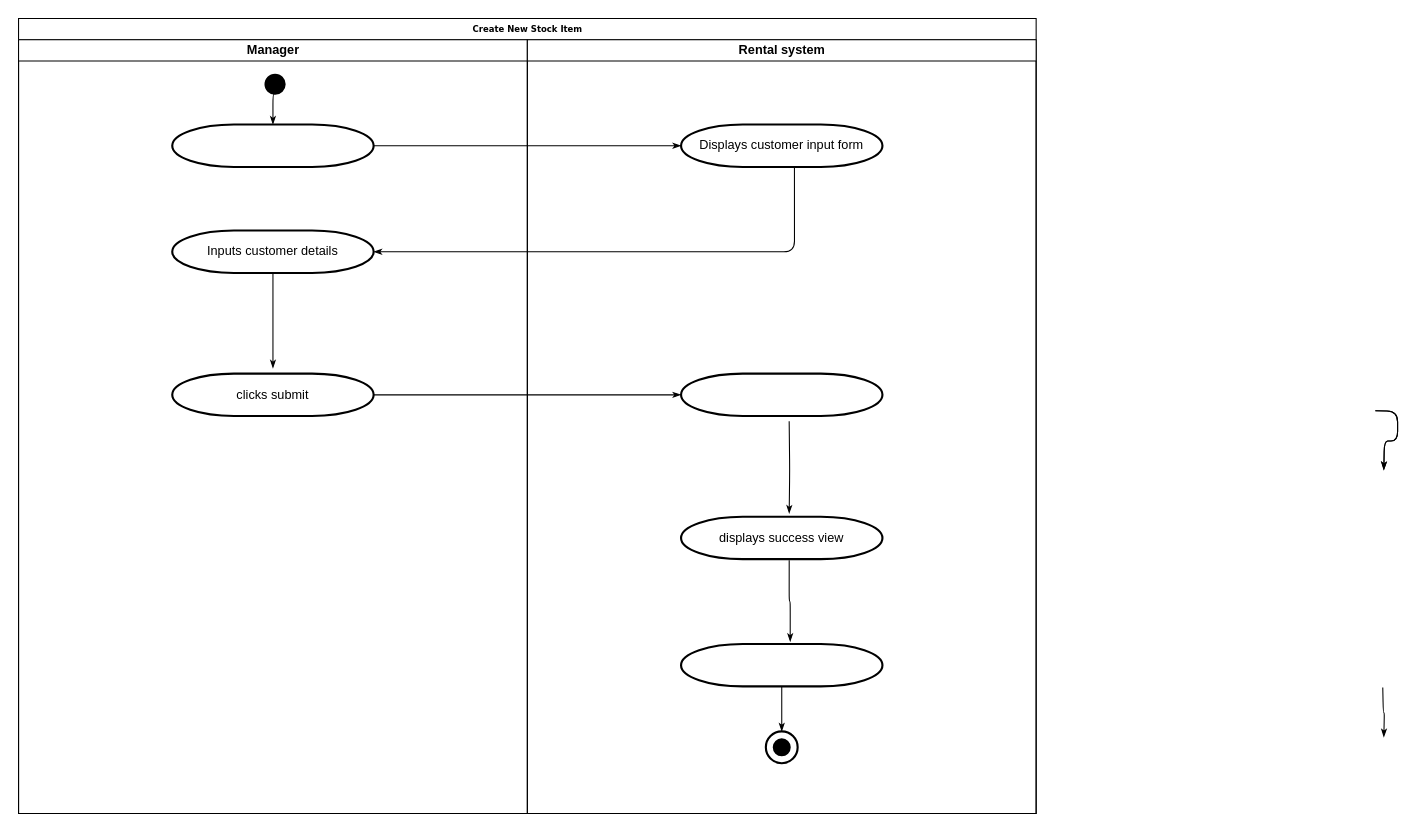
Some shapes in this 1424 by 832 pixel diagram are drawn without their labels. The centre of each missing label's shape, as x and y in pixels:
Clicks add customer from customers view: the point at 272,145
passes Customer object to db: the point at 781,394
redirects to stock view: the point at 781,664
